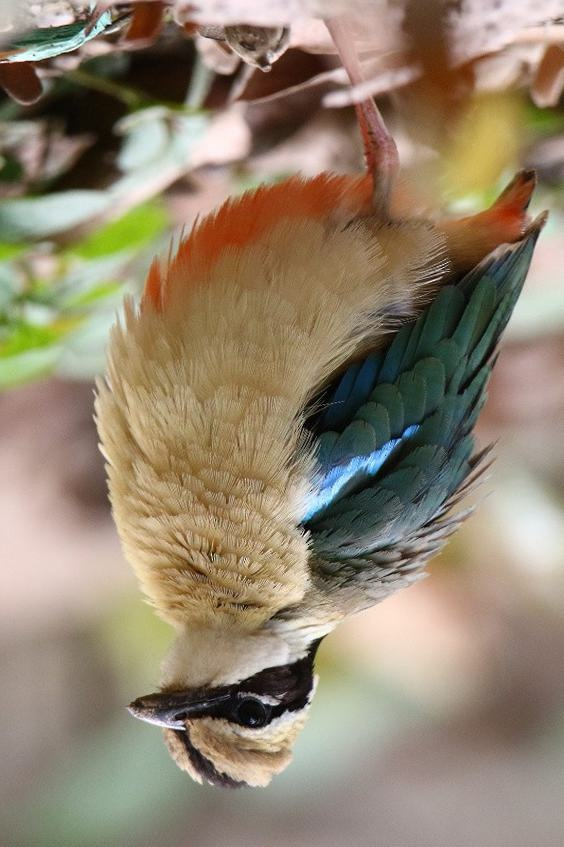pitta: (128, 84, 489, 792)
